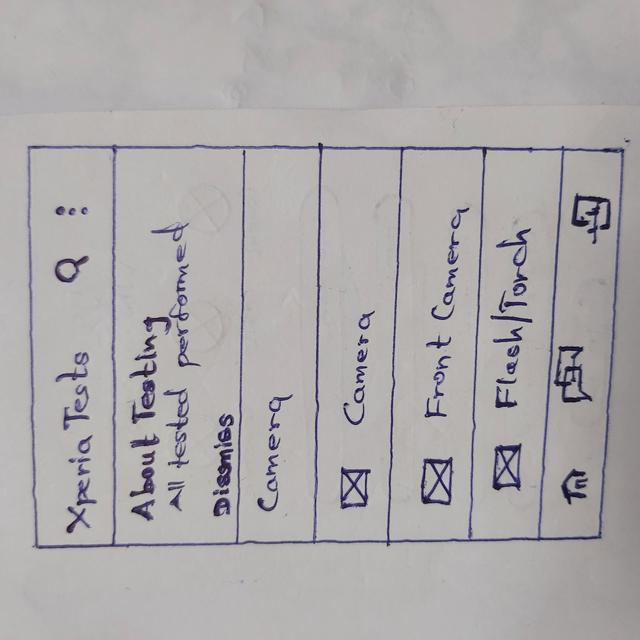ActionButton: (27, 249, 114, 295), (29, 190, 115, 233)
AppBar: (27, 147, 119, 547)
BottomNavBar: (544, 148, 615, 539)
BottomNavItems: (560, 175, 622, 254), (548, 343, 611, 417), (540, 460, 605, 522)
Icon: (556, 346, 593, 405), (572, 194, 613, 236), (559, 468, 592, 504), (55, 255, 88, 283), (56, 203, 91, 218)
Image: (423, 458, 453, 504), (493, 445, 520, 489), (340, 469, 369, 507)
Layout: (393, 150, 474, 539), (316, 148, 392, 540), (475, 149, 540, 537)
ListView: (319, 148, 540, 539)
MainLayout: (25, 146, 604, 542)
TextView: (165, 226, 187, 517), (427, 210, 457, 422), (132, 316, 156, 521), (66, 350, 91, 530), (495, 232, 519, 411), (265, 395, 282, 515), (218, 414, 230, 514), (356, 313, 367, 421)
VerticalListView: (317, 147, 542, 540)
